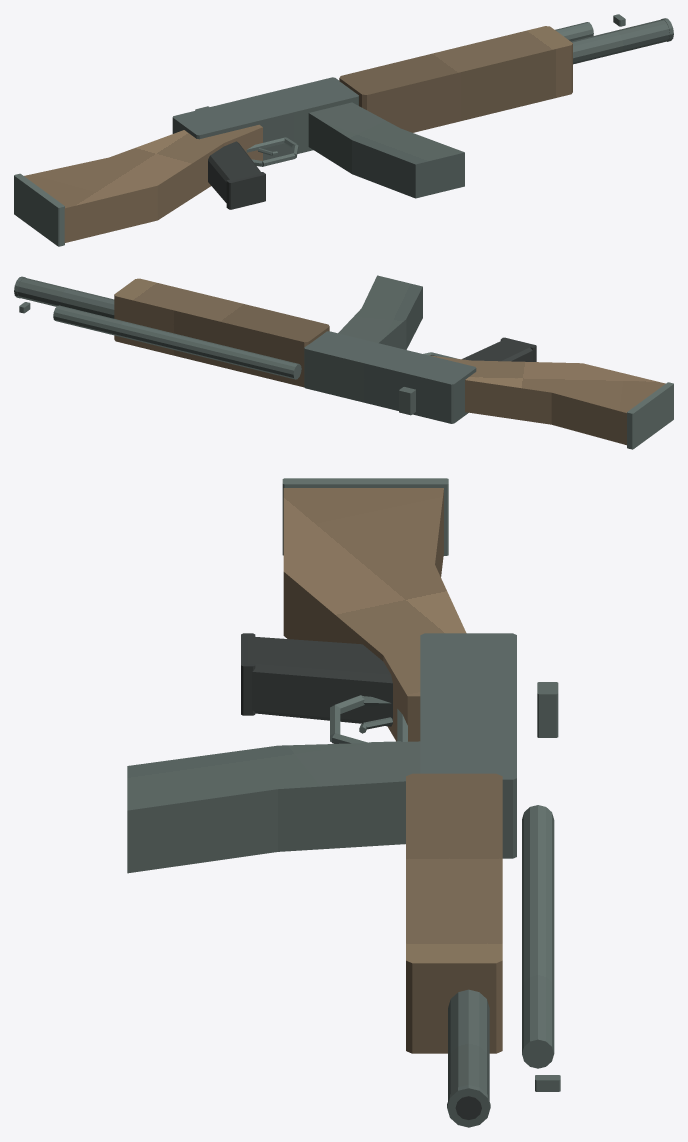
The model's file is weapon-ak47.glb.
The picture shows the model from 3 angles, top to bottom: view 1: azimuth 30°, elevation 25°; view 2: azimuth 150°, elevation 25°; view 3: azimuth 270°, elevation 25°; orthographic projection. The views are drawn at different scales.
Visible parts, largest first — view 1: weapon-ak47/independent-forehandguard, weapon-ak47/shaped-solid-butt, weapon-ak47/distinct-detachable-magazine, weapon-ak47/full-depth-receiver, weapon-ak47/butt-end-plate, weapon-ak47/round-barrel, weapon-ak47/distinct-eight-sided-pistol-grip, weapon-ak47/distinct-eight-sided-pistol-grip-heel, weapon-ak47/exposed-upper-gas-line; view 2: weapon-ak47/shaped-solid-butt, weapon-ak47/independent-forehandguard, weapon-ak47/full-depth-receiver, weapon-ak47/exposed-upper-gas-line, weapon-ak47/distinct-detachable-magazine, weapon-ak47/round-barrel, weapon-ak47/butt-end-plate, weapon-ak47/distinct-eight-sided-pistol-grip, weapon-ak47/rear-sight; view 3: weapon-ak47/distinct-detachable-magazine, weapon-ak47/shaped-solid-butt, weapon-ak47/independent-forehandguard, weapon-ak47/full-depth-receiver, weapon-ak47/distinct-eight-sided-pistol-grip, weapon-ak47/exposed-upper-gas-line, weapon-ak47/round-barrel, weapon-ak47/butt-end-plate, weapon-ak47/rear-sight, weapon-ak47/round-barrel-end-rim.
Boxes of the visible parts, x1,y1,x2,y2 form: weapon-ak47/independent-forehandguard: (339,26,572,132); weapon-ak47/shaped-solid-butt: (24,124,262,242); weapon-ak47/distinct-detachable-magazine: (308,102,464,198); weapon-ak47/full-depth-receiver: (172,77,358,160); weapon-ak47/butt-end-plate: (14,173,64,246); weapon-ak47/round-barrel: (571,19,669,64); weapon-ak47/distinct-eight-sided-pistol-grip: (208,141,260,202); weapon-ak47/distinct-eight-sided-pistol-grip-heel: (226,172,265,209); weapon-ak47/exposed-upper-gas-line: (555,22,593,41); weapon-ak47/shaped-solid-butt: (429,355,665,445); weapon-ak47/independent-forehandguard: (114,278,329,387); weapon-ak47/full-depth-receiver: (304,331,476,423); weapon-ak47/exposed-upper-gas-line: (53,305,301,379); weapon-ak47/distinct-detachable-magazine: (338,275,422,349); weapon-ak47/round-barrel: (17,278,114,318); weapon-ak47/butt-end-plate: (627,382,673,449); weapon-ak47/distinct-eight-sided-pistol-grip: (462,339,532,361); weapon-ak47/rear-sight: (399,387,415,415); weapon-ak47/distinct-detachable-magazine: (127,741,420,873); weapon-ak47/shaped-solid-butt: (283,488,466,741); weapon-ak47/independent-forehandguard: (406,773,502,1053); weapon-ak47/full-depth-receiver: (420,633,516,858); weapon-ak47/distinct-eight-sided-pistol-grip: (248,636,392,726); weapon-ak47/exposed-upper-gas-line: (522,805,554,1068); weapon-ak47/round-barrel: (448,989,489,1100); weapon-ak47/butt-end-plate: (282,478,448,555); weapon-ak47/rear-sight: (537,682,558,737); weapon-ak47/round-barrel-end-rim: (447,1085,490,1127).
Bounding box in the file's own units: 0.873 × 0.062 × 0.269.
3 materials, 3 textured.
